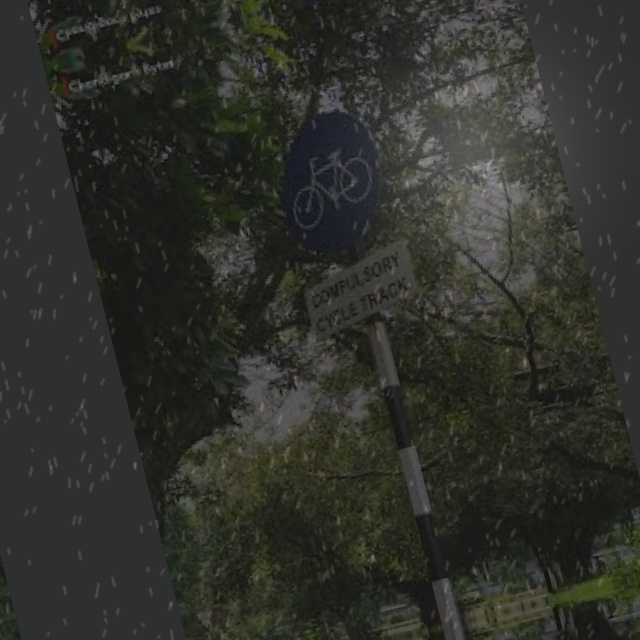Compulsory_Cycle_Track: (259, 100, 410, 261)
